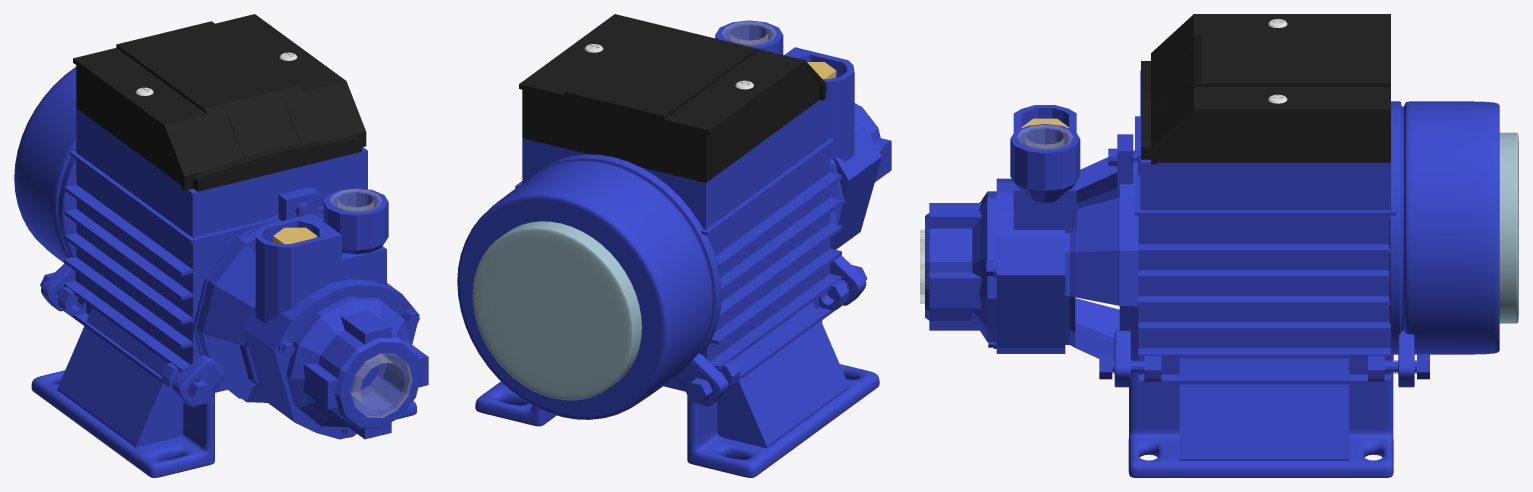
File: uploads-files-722094-hhpwtrpmp.fbx
3 views of the same model, side by side, from view 1: azimuth 30°, elevation 25°; view 2: azimuth 150°, elevation 25°; view 3: azimuth 270°, elevation 25° (orthographic). The views are drawn at different scales.
Visible parts, largest first — view 1: Cube.015, Cube.001, Cylinder.003, Cube, Cube.002, Cube.007, Cylinder, Cube.014, Cylinder.001, Cube.005, Cube.003, Cube.016 (+10 smaller); view 2: Cube.015, Cylinder, Cylinder.015, Cube.007, Cube.002, Cube.001, Cube, Cube.003, Cube.005, Cube.014, Cube.011, Cylinder.002 (+5 smaller); view 3: Cube.015, Cylinder, Cube, Cube.007, Cube.002, Cube.001, Cylinder.001, Cube.003, Cube.005, Cylinder.003, Cylinder.002, Cylinder.015 (+9 smaller).
Part boxes in pixels (x1,y1,x2,y2): Cube.015: (73, 14, 366, 190); Cube.001: (69, 108, 367, 243); Cylinder.003: (286, 297, 421, 428); Cube: (75, 159, 323, 392); Cube.002: (64, 184, 249, 388); Cube.007: (57, 308, 183, 447); Cylinder: (14, 67, 76, 263); Cube.014: (255, 213, 386, 323); Cylinder.001: (191, 214, 323, 402); Cube.005: (242, 279, 419, 439); Cube.003: (31, 370, 416, 477); Cube.016: (193, 136, 362, 191); Cube.015: (519, 14, 826, 182); Cylinder: (457, 154, 721, 419); Cylinder.015: (472, 221, 641, 400); Cube.007: (502, 302, 849, 448); Cube.002: (710, 172, 841, 382); Cube.001: (515, 93, 834, 235); Cube: (663, 146, 829, 391); Cube.003: (475, 320, 879, 477); Cube.005: (831, 118, 882, 249); Cube.014: (784, 47, 854, 161); Cube.011: (675, 255, 866, 406); Cylinder.002: (715, 20, 783, 54); Cube.015: (1151, 14, 1390, 164); Cylinder: (1389, 101, 1499, 354); Cube: (1138, 215, 1390, 374); Cube.007: (1179, 358, 1348, 460); Cube.002: (1138, 244, 1390, 384); Cube.001: (1135, 70, 1396, 215); Cylinder.001: (1064, 150, 1141, 361); Cube.003: (1128, 354, 1393, 477); Cube.005: (996, 178, 1065, 353); Cylinder.003: (925, 191, 996, 342); Cylinder.002: (1010, 124, 1080, 202); Cylinder.015: (1499, 132, 1518, 323).
Bounding box in the file's own units: 500 × 582 × 901.
